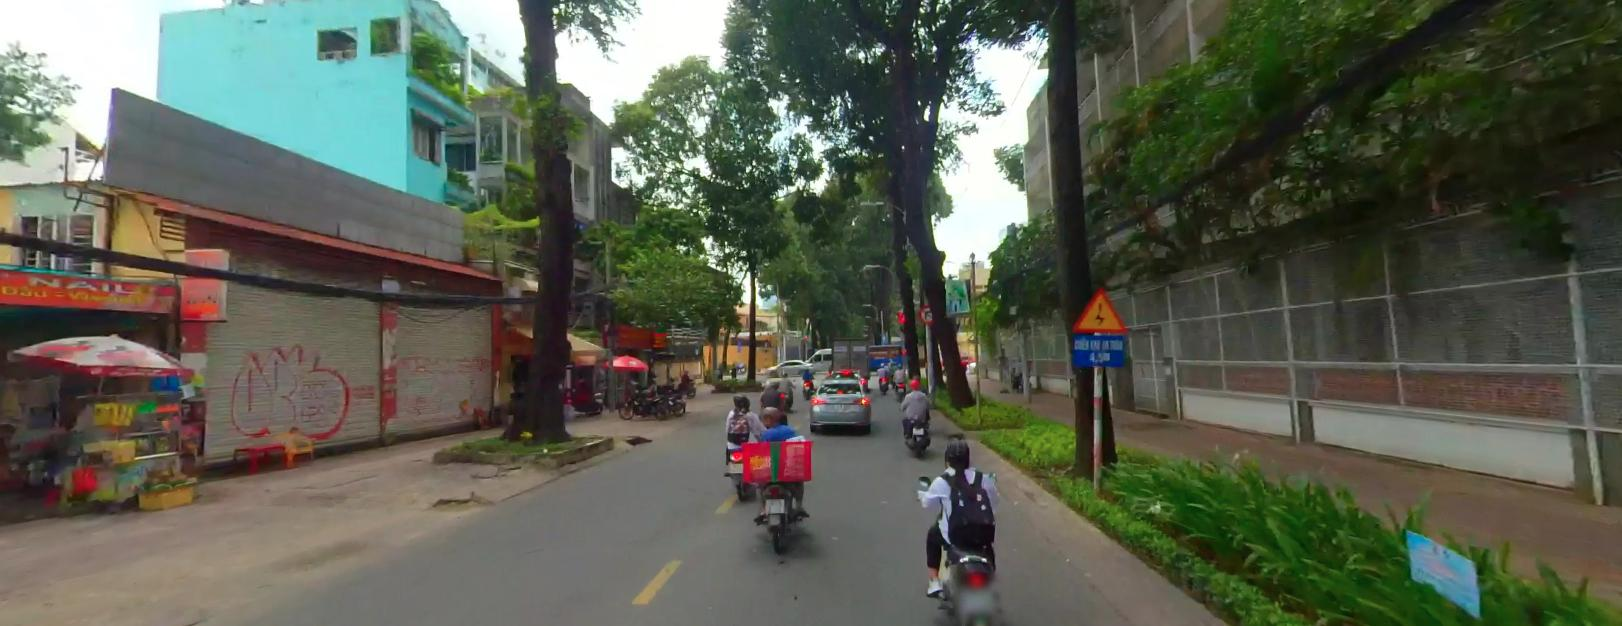Cam re: (917, 303, 937, 323)
Nguy hiem: (1071, 287, 1126, 331)
